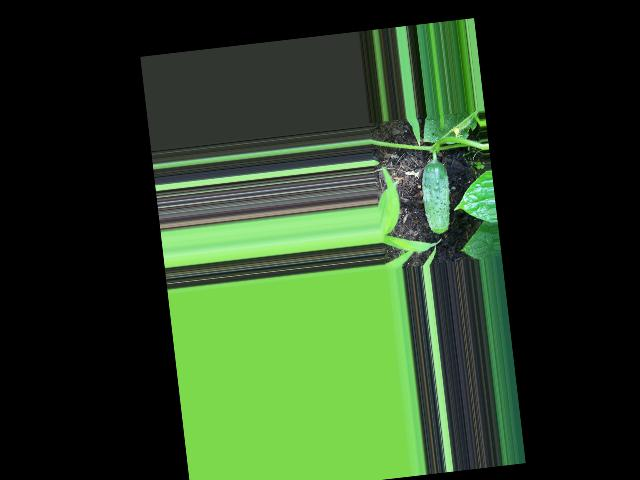cucumber: (418, 159, 454, 236)
